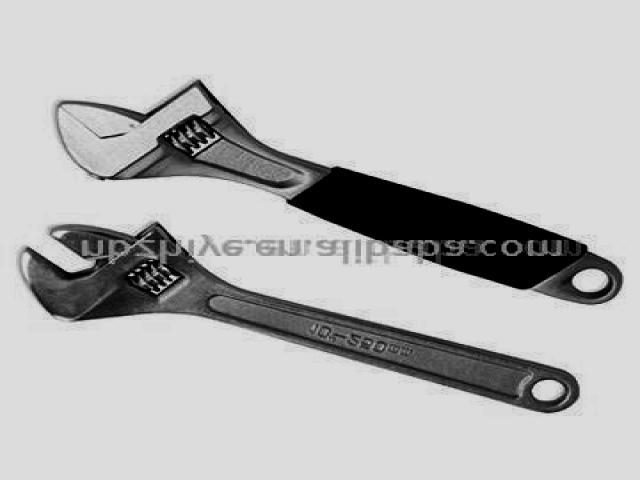Adjustable spanner: (58, 83, 621, 304), (22, 225, 578, 412)
